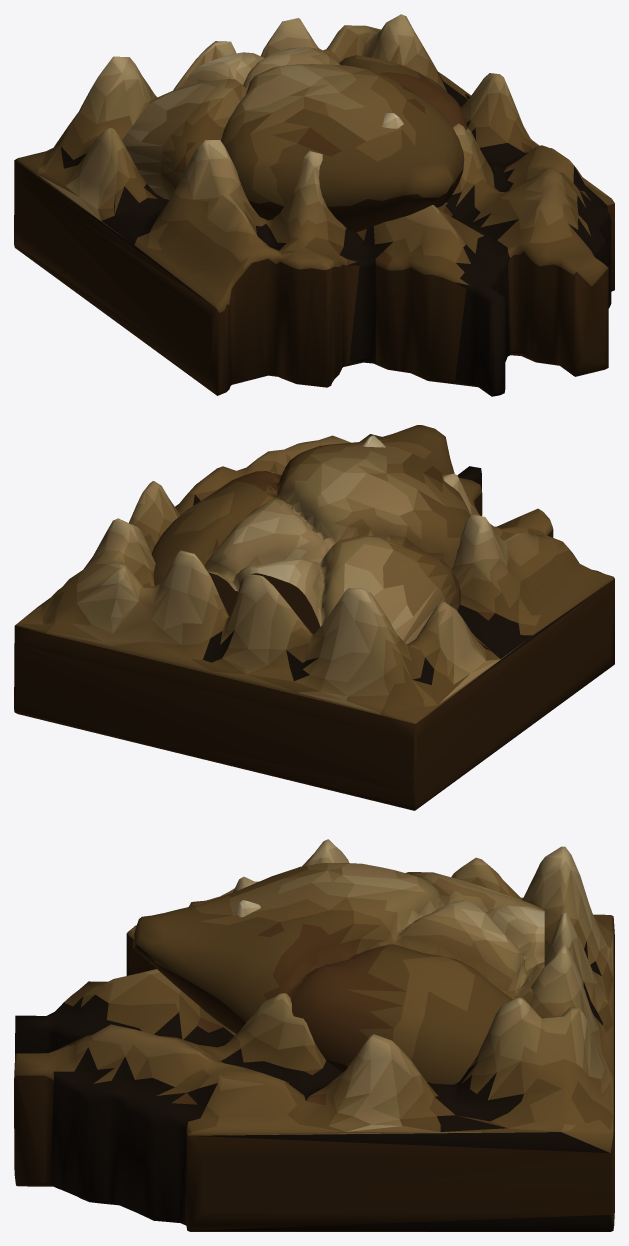
File: ixm_maw_15.glb
3 views of the same model, one above another, from view 1: azimuth 30°, elevation 25°; view 2: azimuth 150°, elevation 25°; view 3: azimuth 270°, elevation 25° (orthographic). The views are drawn at different scales.
Parts seen in each view (by area): view 1: ixm_maw_15; view 2: ixm_maw_15; view 3: ixm_maw_15.
Boxes of the visible parts, x1=… form: ixm_maw_15: x1=14, y1=14, x2=614, y2=396; ixm_maw_15: x1=14, y1=425, x2=614, y2=810; ixm_maw_15: x1=14, y1=839, x2=614, y2=1231.
Size of the model in its own units: 24.14 by 13.38 by 27.95.
